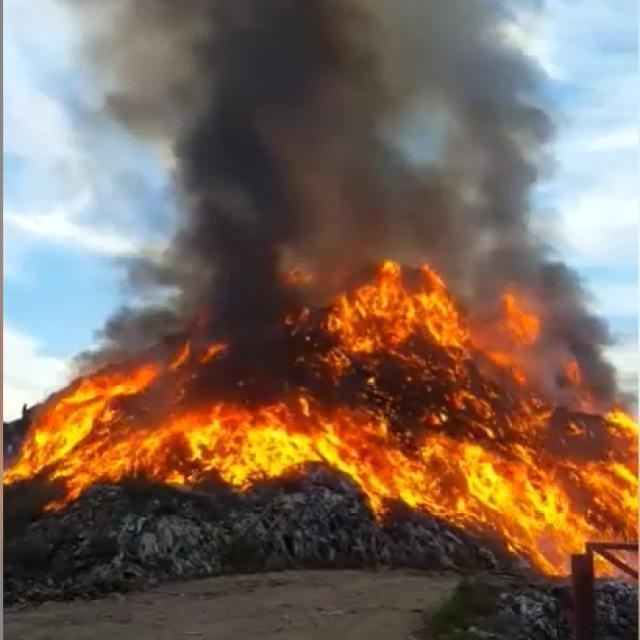Fire: (14, 290, 640, 554)
Smoke: (0, 0, 640, 303)
